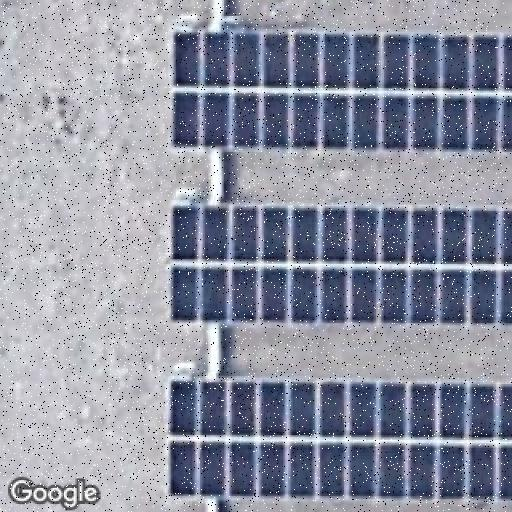solar-panel: (166, 374, 512, 502), (166, 203, 512, 328), (169, 29, 512, 152)
